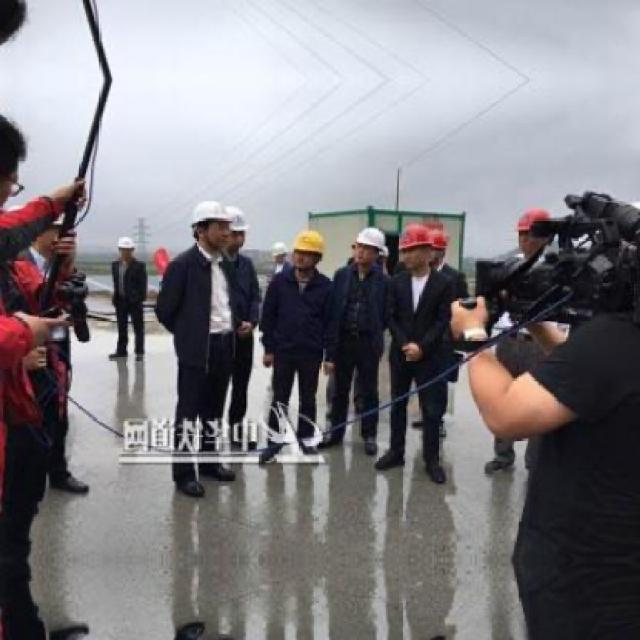helmet: (188, 198, 237, 251), (514, 204, 557, 256), (400, 222, 442, 270), (291, 227, 331, 276), (220, 204, 252, 253), (354, 223, 386, 269), (426, 225, 452, 269), (116, 232, 136, 266), (269, 240, 288, 268)
